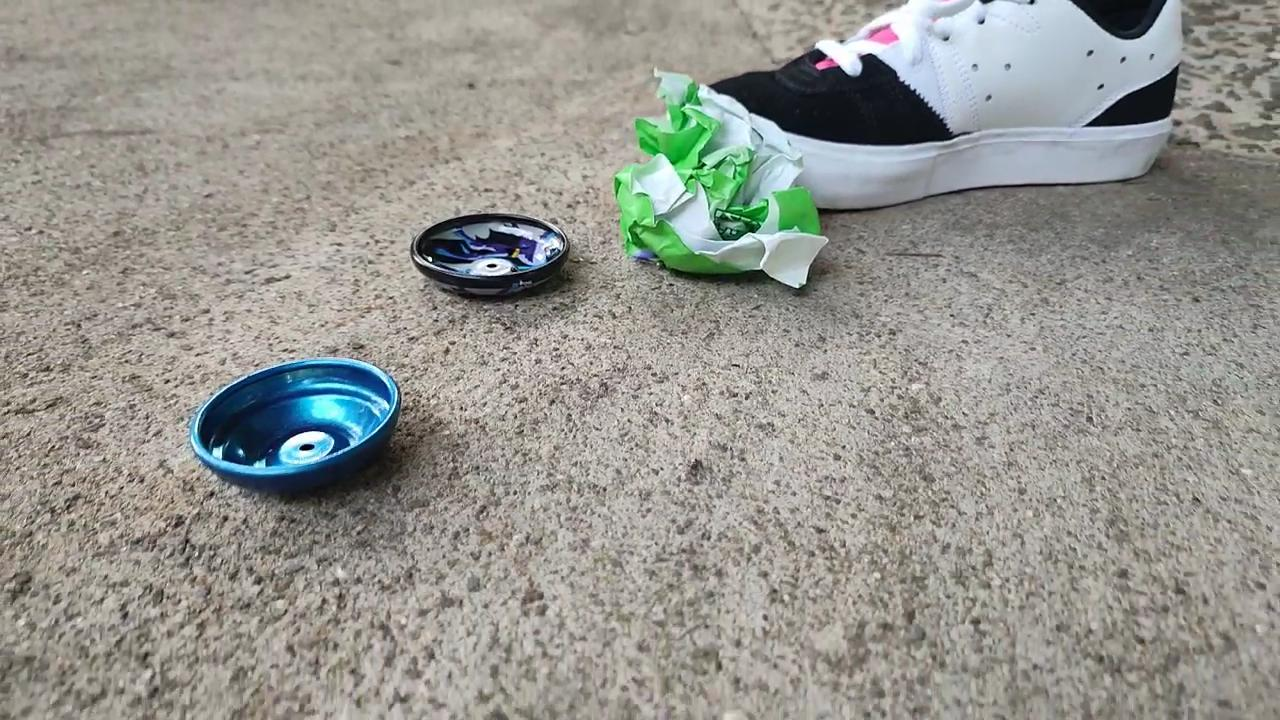Paper: (601, 68, 846, 304)
